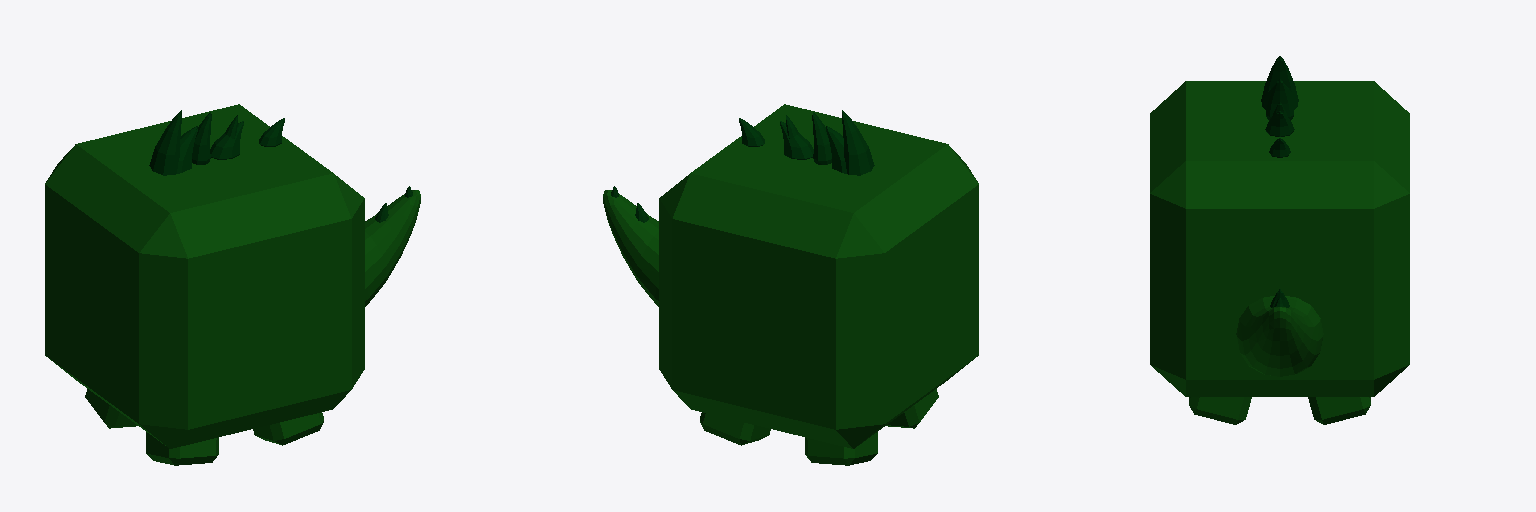
File: Dino.obj
3 views of the same model, side by side, from view 1: azimuth 30°, elevation 25°; view 2: azimuth 150°, elevation 25°; view 3: azimuth 270°, elevation 25° (orthographic).
Parts seen in each view (by area): view 1: Meshesbgvmpetrevampcube0311, Meshesbgvmpetrevampcube0321, Meshesbgvmpetrevampcube0361, Meshesbgvmpetrevampcube0351, Meshesbgvmpetrevampcube0352; view 2: Meshesbgvmpetrevampcube0311, Meshesbgvmpetrevampcube0321, Meshesbgvmpetrevampcube0361, Meshesbgvmpetrevampcube0351, Meshesbgvmpetrevampcube0352; view 3: Meshesbgvmpetrevampcube0311, Meshesbgvmpetrevampcube0361, Meshesbgvmpetrevampcube0321, Meshesbgvmpetrevampcube0351, Meshesbgvmpetrevampcube0352.
Part boxes in pixels (left/top/right/bottom): Meshesbgvmpetrevampcube0311: left=45, top=104, right=364, bottom=448; Meshesbgvmpetrevampcube0321: left=85, top=389, right=323, bottom=465; Meshesbgvmpetrevampcube0361: left=365, top=190, right=420, bottom=306; Meshesbgvmpetrevampcube0351: left=149, top=110, right=237, bottom=175; Meshesbgvmpetrevampcube0352: left=177, top=118, right=412, bottom=222; Meshesbgvmpetrevampcube0311: left=659, top=104, right=978, bottom=448; Meshesbgvmpetrevampcube0321: left=700, top=389, right=938, bottom=465; Meshesbgvmpetrevampcube0361: left=603, top=190, right=658, bottom=306; Meshesbgvmpetrevampcube0351: left=786, top=110, right=874, bottom=175; Meshesbgvmpetrevampcube0352: left=611, top=118, right=846, bottom=222; Meshesbgvmpetrevampcube0311: left=1150, top=81, right=1409, bottom=396; Meshesbgvmpetrevampcube0361: left=1236, top=296, right=1323, bottom=376; Meshesbgvmpetrevampcube0321: left=1189, top=397, right=1370, bottom=424; Meshesbgvmpetrevampcube0351: left=1261, top=56, right=1298, bottom=289; Meshesbgvmpetrevampcube0352: left=1262, top=84, right=1297, bottom=307.
Size of the model in its own units: 2.14 by 2.05 by 1.47.